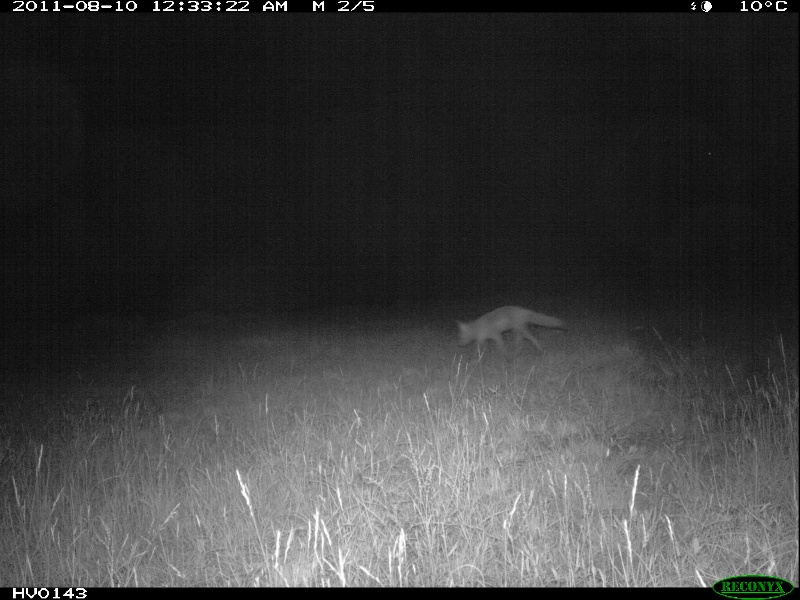fox: (453, 305, 572, 358)
